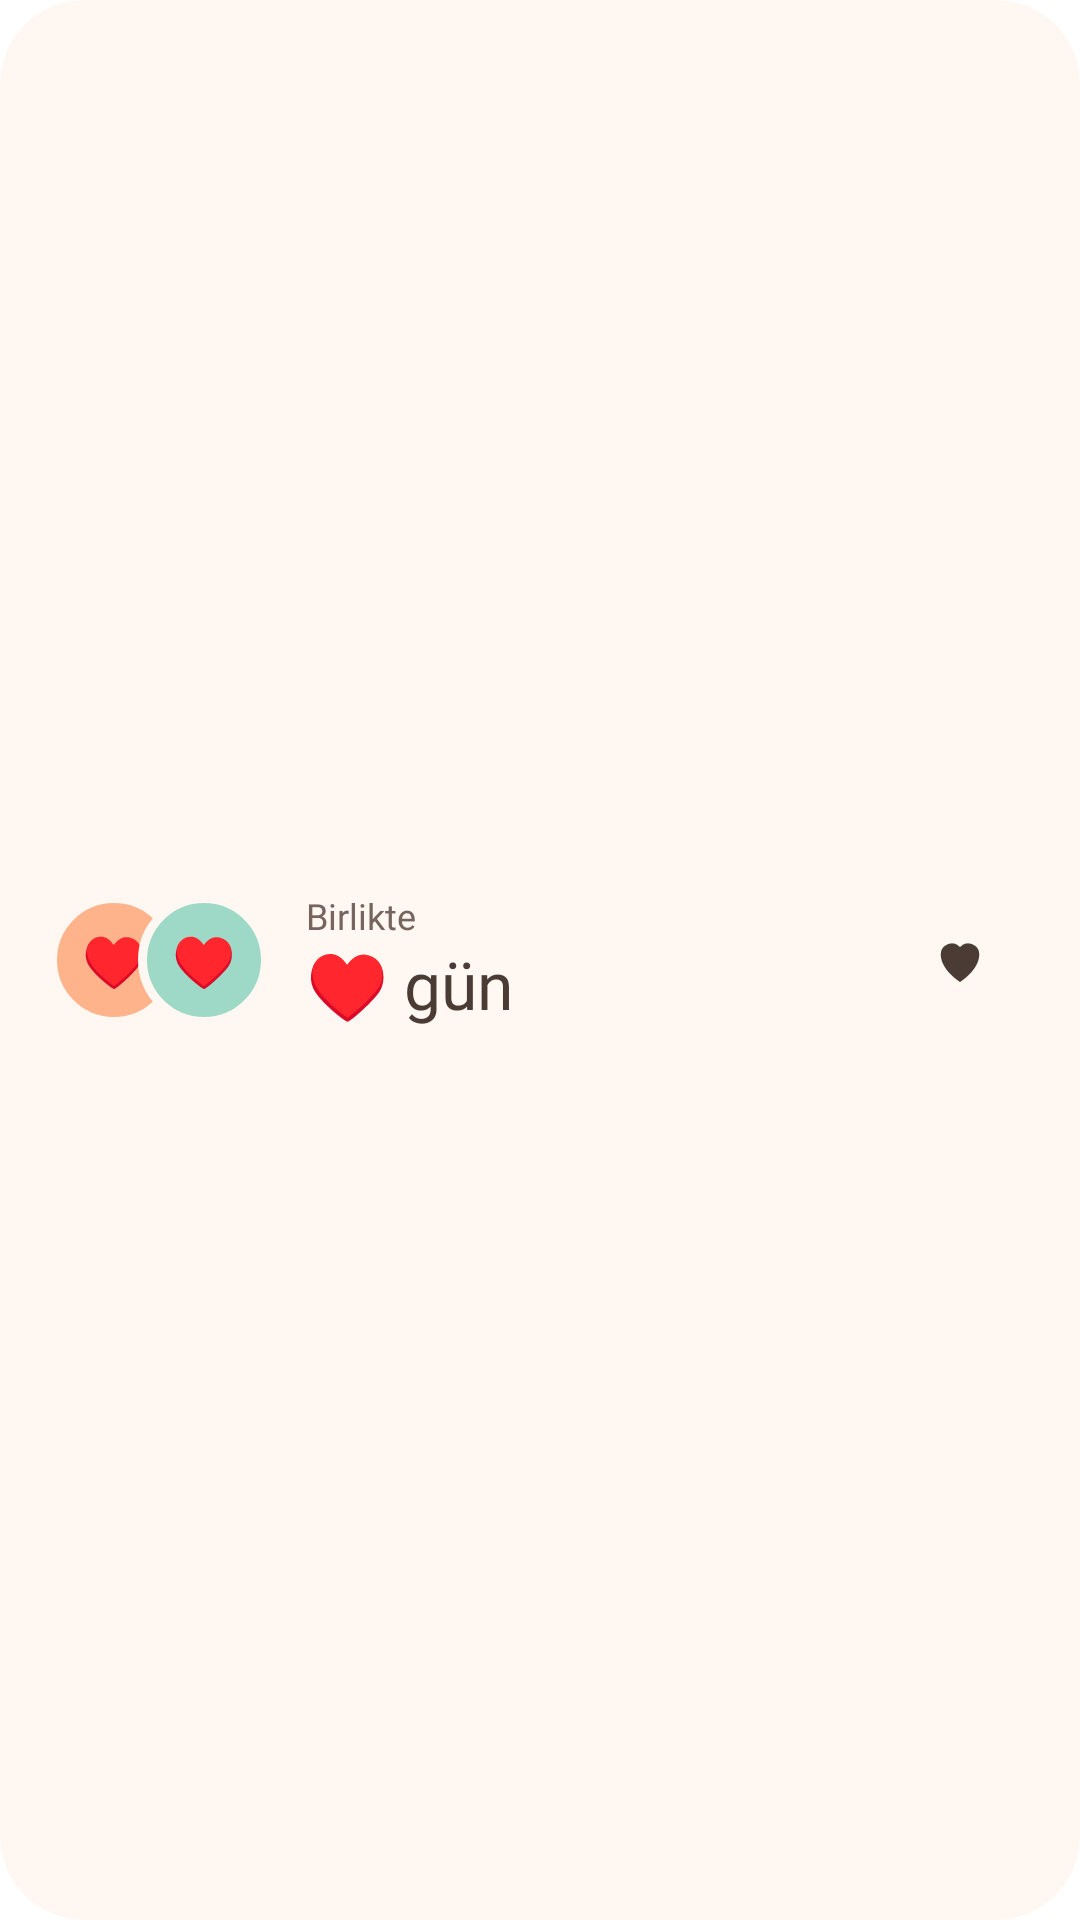

Where to tap for icons on this 1080x1920 app screen, as point (x, y):
Kalp gönder: point (960, 962)
